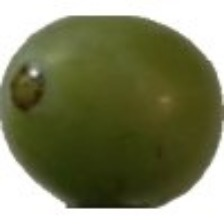grapes: (28, 29, 163, 184)
